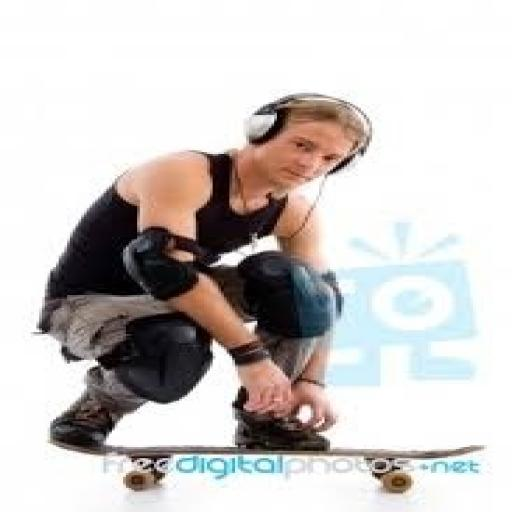listening_to_music: (34, 91, 378, 454)
